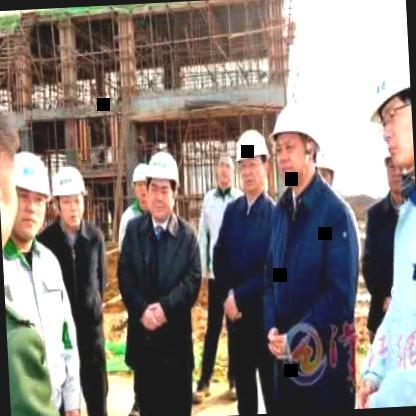head: (0, 91, 24, 245)
helmet: (366, 57, 414, 180), (266, 104, 328, 190), (4, 149, 58, 239), (136, 144, 183, 219), (48, 156, 92, 236), (228, 123, 271, 198), (379, 144, 408, 202), (126, 152, 156, 208)
